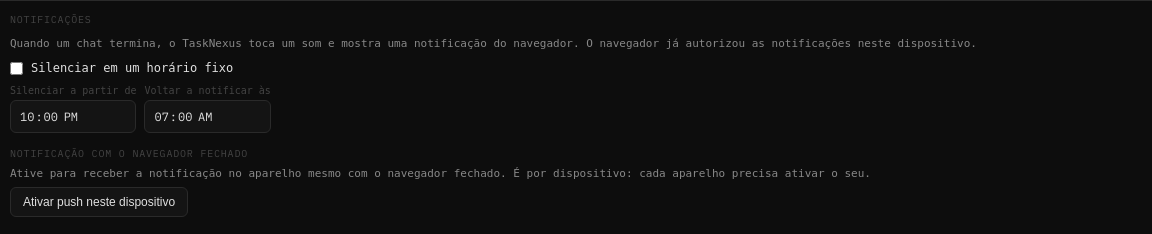
Scenario: NotificationSettings — enabling push › subscribes, registers on the backend and flips to the active state
What coordinates should you click on to do the following:
click the button "Ativar push neste dispositivo"
I would click on:
 (99, 202)
Its box is [10, 187, 188, 217].
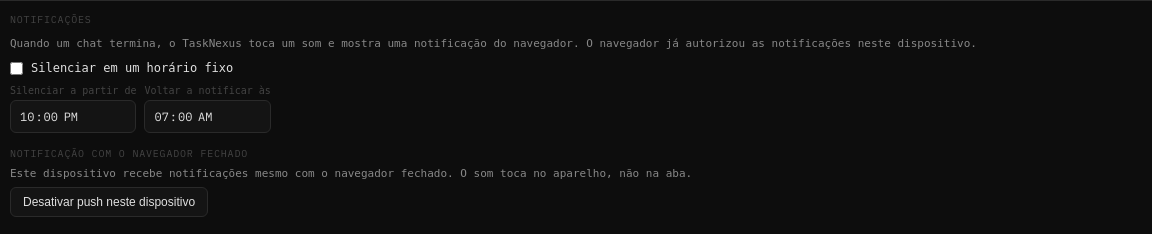
Expected: the button "Desativar push neste dispositivo" is shown, [10, 187, 208, 217]
